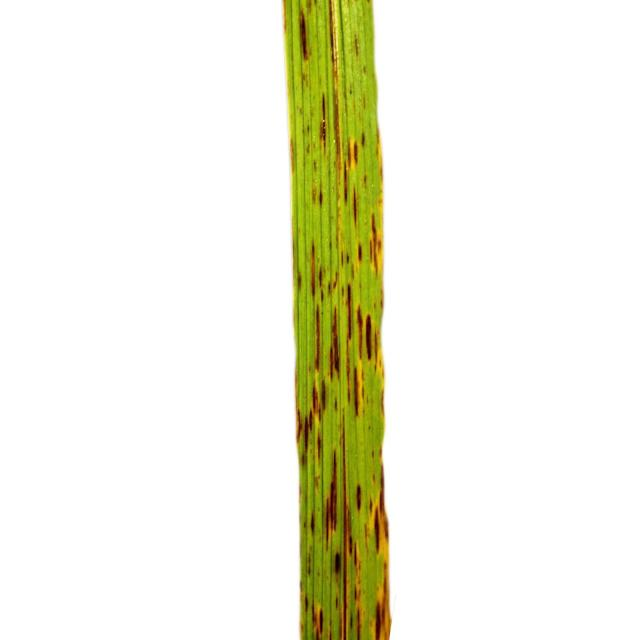Narrow brown: (194, 0, 524, 636)
